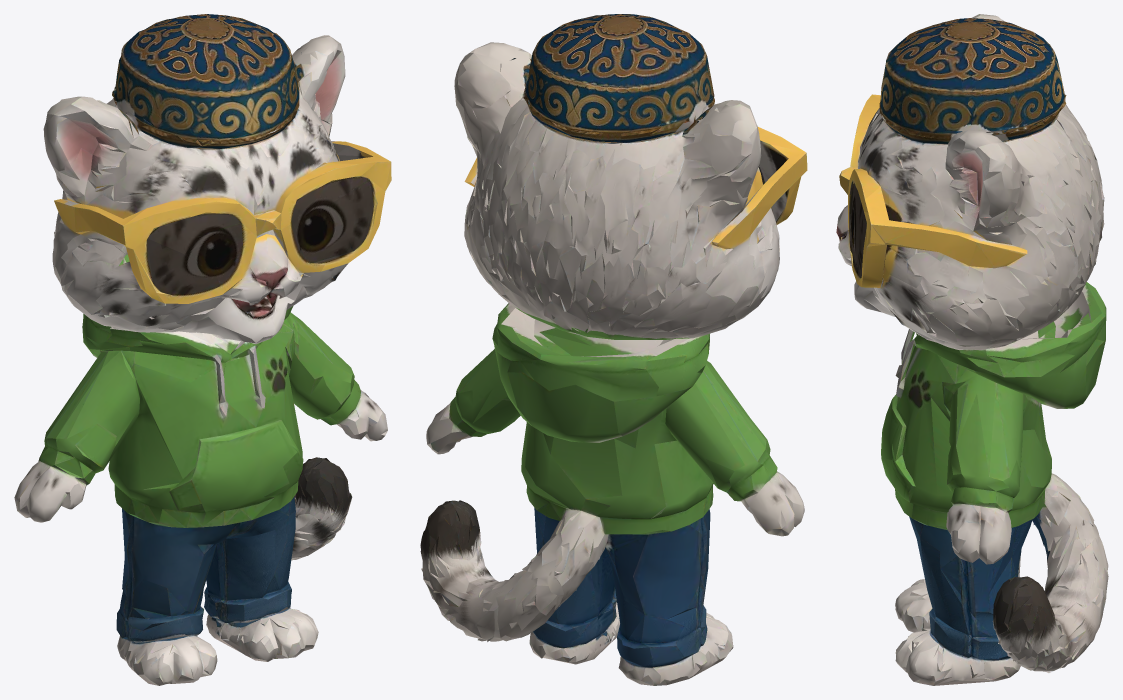
The model's file is barsik_meshy_static.glb.
3 renders of one model, left to right at view 1: azimuth 30°, elevation 25°; view 2: azimuth 150°, elevation 25°; view 3: azimuth 270°, elevation 25°, orthographic. The views are drawn at different scales.
Visible parts, largest first — view 1: output_unwrapped; view 2: output_unwrapped; view 3: output_unwrapped.
Part boxes in pixels (x1,y1,x2,y2): output_unwrapped: [14, 14, 391, 685]; output_unwrapped: [420, 14, 807, 685]; output_unwrapped: [836, 14, 1108, 685].
Bounding box in the file's own units: 1.15 × 1.9 × 0.7581.
Materials: 1 (1 with a texture image).
